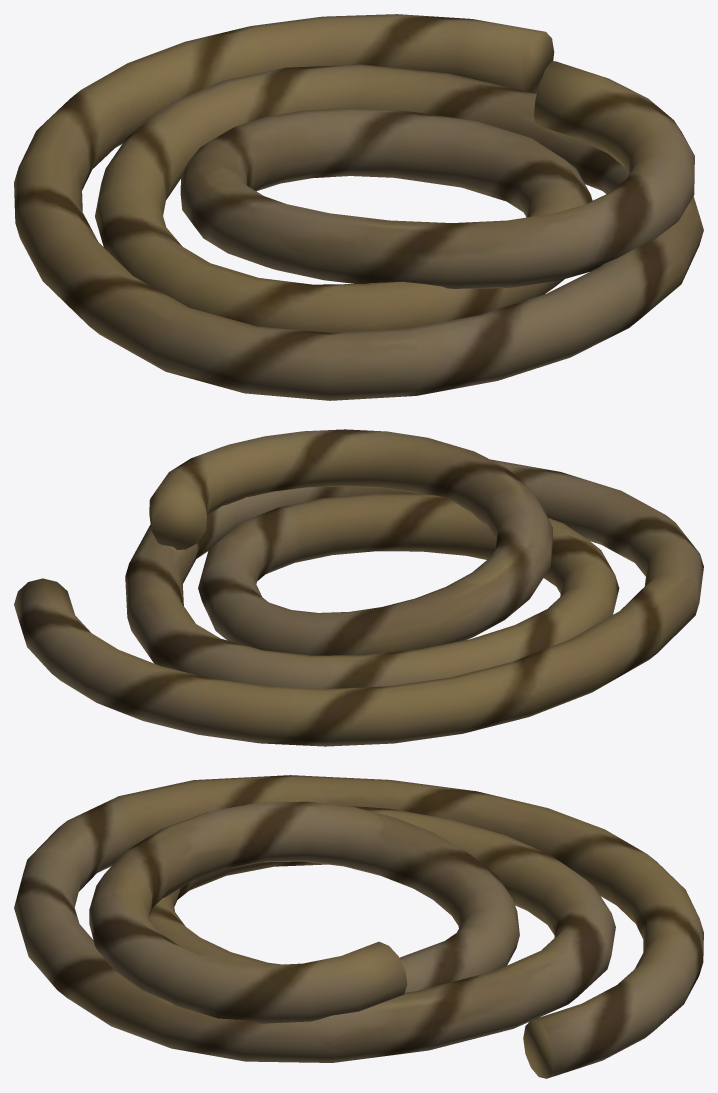
The model's file is Rope_1.gltf.
3 views of the same model, one above another, from view 1: azimuth 30°, elevation 25°; view 2: azimuth 150°, elevation 25°; view 3: azimuth 270°, elevation 25° (orthographic). The views are drawn at different scales.
Parts seen in each view (by area): view 1: Rope_1; view 2: Rope_1; view 3: Rope_1.
Part boxes in pixels (left/top/right/bottom): Rope_1: left=14, top=14, right=703, bottom=400; Rope_1: left=14, top=429, right=703, bottom=746; Rope_1: left=14, top=775, right=703, bottom=1078.
Size of the model in its own units: 0.5574 by 0.0978 by 0.6063.
Materials: 1 (1 with a texture image).
